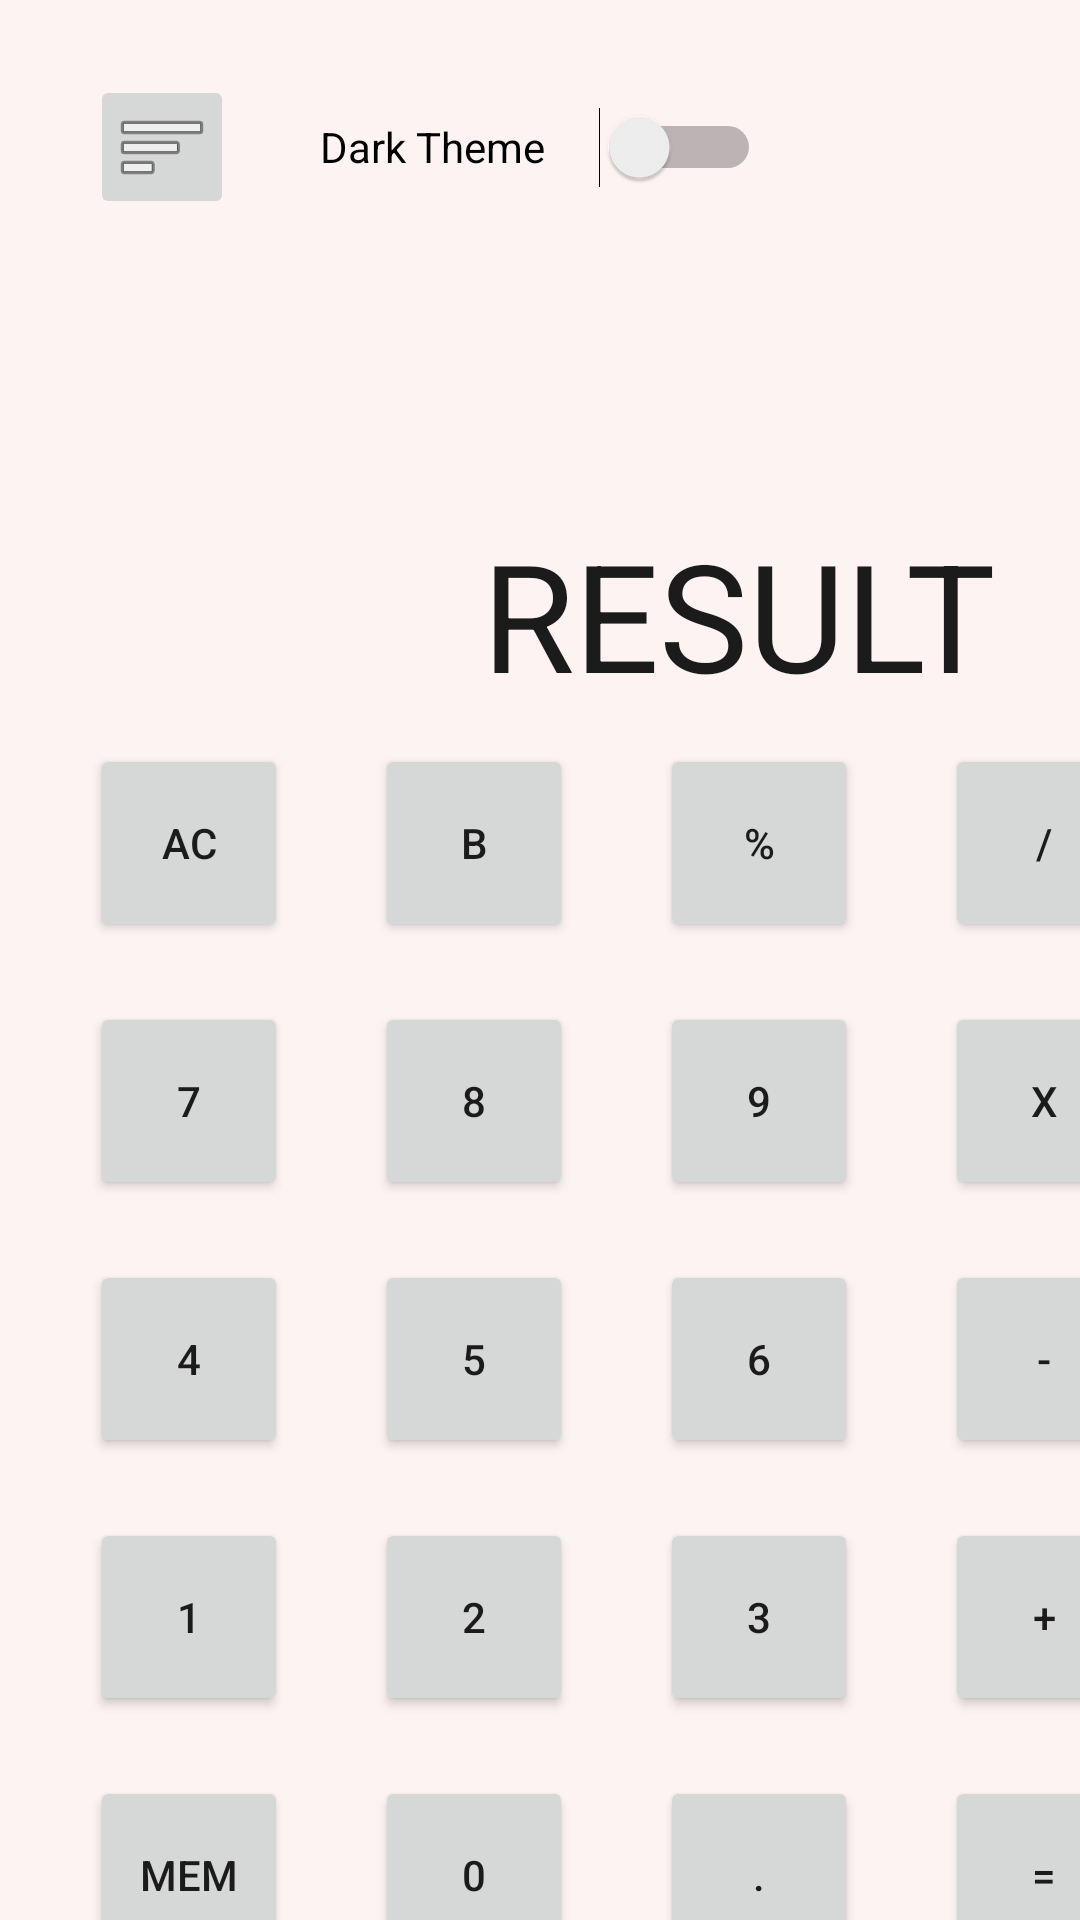

Point at icon controls on the screen. Image size 1080x1920, points as (x,y).
sort by size: (162,147)
